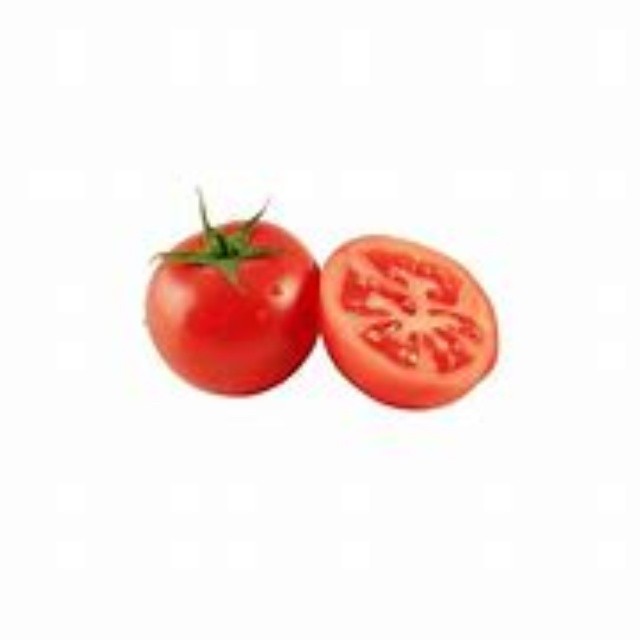tomato: (312, 235, 509, 417), (142, 222, 326, 399)
